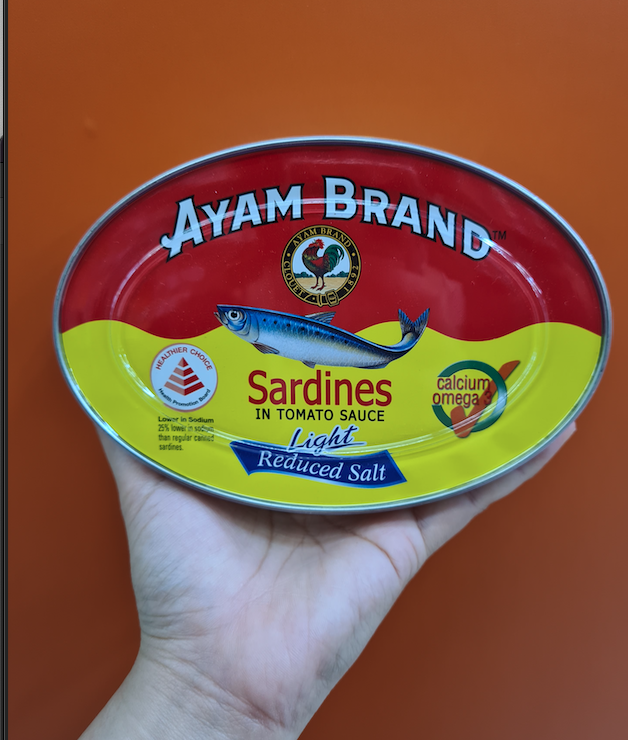Canned_Sardines_and_Mackerel: (124, 166, 539, 487)
